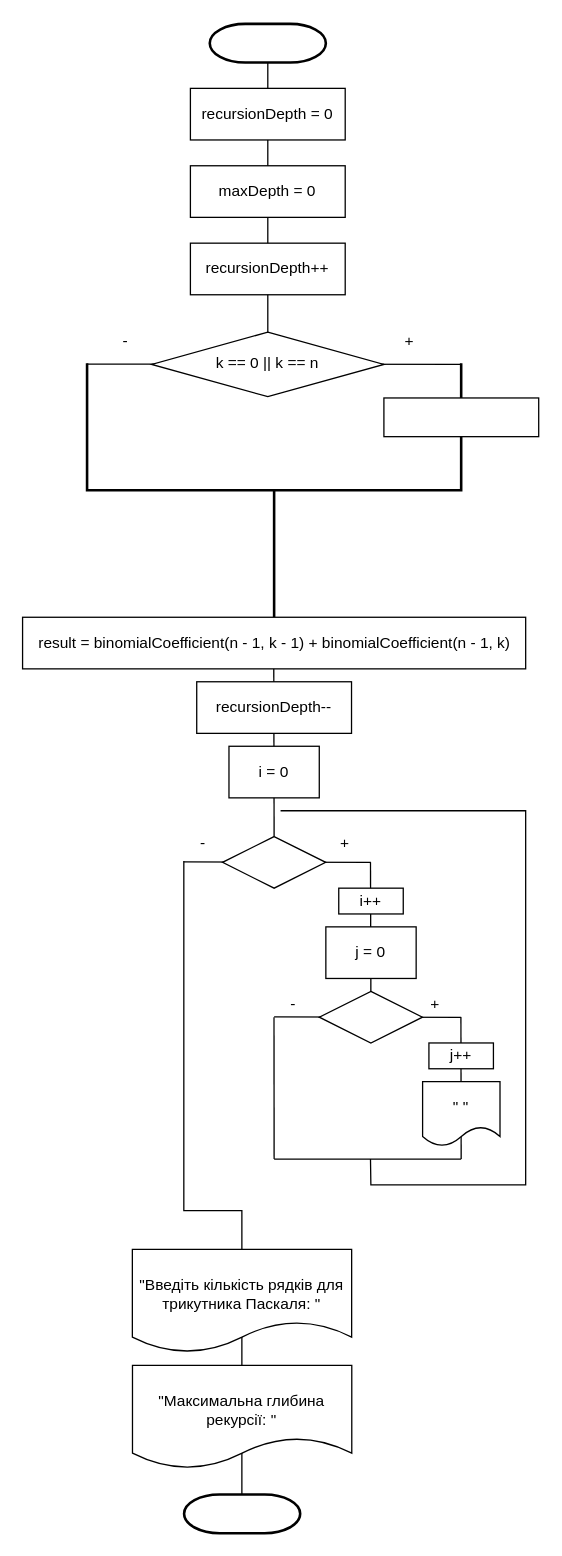
Image size: 562x1556. Some labels were removed from this diagram. The shapes that lost their labels are listed below. From the top down, each one's centre as x and y in pixels, then its label:
At point (267, 42): "початок".
At point (461, 417): "recursionDepth-- return 1".
At point (273, 861): "i < n".
At point (370, 1016): "j <= i".
At point (241, 1513): "кінець".
